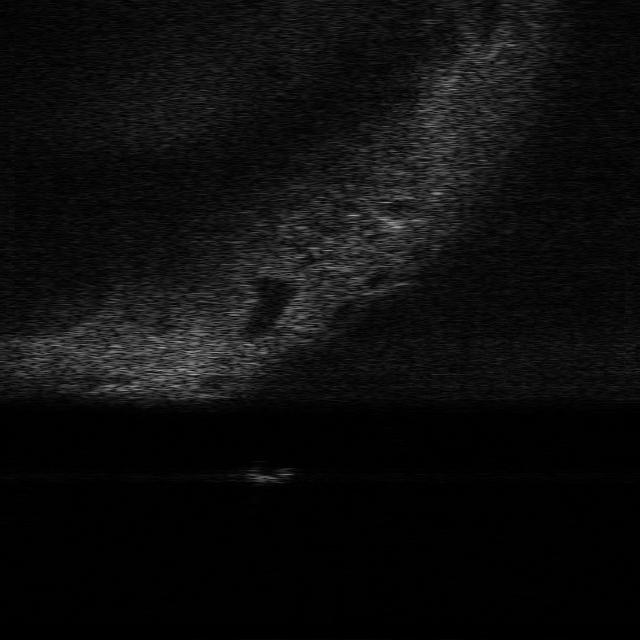cube: (240, 458, 294, 484)
